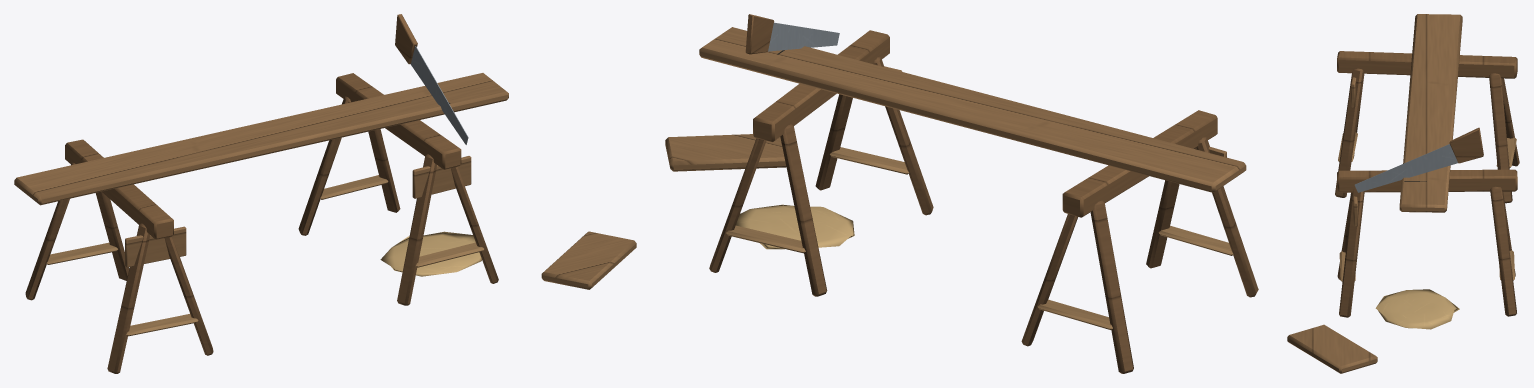
Rendered from sawhorse_pair.glb.
The picture shows the model from 3 angles, left to right: view 1: azimuth 30°, elevation 25°; view 2: azimuth 150°, elevation 25°; view 3: azimuth 270°, elevation 25°; orthographic projection. The views are drawn at different scales.
Visible parts, largest first — view 1: sawhorse_pair; view 2: sawhorse_pair; view 3: sawhorse_pair.
Boxes of the visible parts, bbox=[...] form: sawhorse_pair: bbox=[14, 14, 636, 373]; sawhorse_pair: bbox=[665, 14, 1258, 373]; sawhorse_pair: bbox=[1287, 14, 1519, 373].
Size of the model in its own units: 2.87 by 1.06 by 1.23.
Materials: 8 (8 with a texture image).
